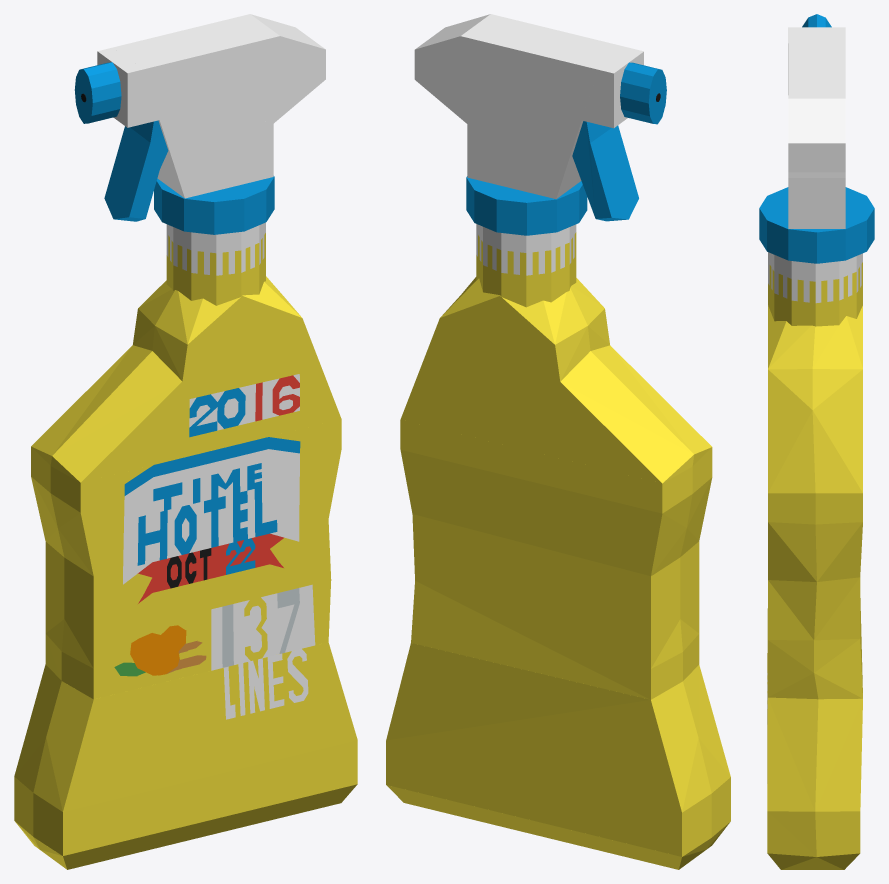
The model's file is sprayBottle.obj.
The picture shows the model from 3 angles, left to right: view 1: azimuth 30°, elevation 25°; view 2: azimuth 150°, elevation 25°; view 3: azimuth 270°, elevation 25°; orthographic projection. The views are drawn at different scales.
Visible parts, largest first — view 1: group907148737, group213891247, group725267050, group51710340, group307408134, group668456900, group1409497348, group1131721816, group1334471471, group1897791292, group326314247, group2076814445; view 2: group907148737, group725267050, group213891247, group51710340, group307408134, group668456900, group1131721816, group1897791292, group1334471471, group1409497348, group2076814445, group326314247; view 3: group213891247, group907148737, group725267050, group307408134, group51710340, group668456900, group1131721816, group1409497348, group1334471471, group326314247, group2076814445.
Part boxes in pixels (<box>): group907148737: <box>14,642,357,855</box>; group213891247: <box>31,276,341,482</box>; group725267050: <box>45,519,331,699</box>; group51710340: <box>31,419,341,576</box>; group307408134: <box>113,14,325,198</box>; group668456900: <box>166,222,265,305</box>; group1409497348: <box>185,119,273,198</box>; group1131721816: <box>154,176,274,234</box>; group1334471471: <box>15,784,357,869</box>; group1897791292: <box>104,120,168,221</box>; group326314247: <box>97,47,161,127</box>; group2076814445: <box>74,62,121,123</box>; group907148737: <box>386,643,730,856</box>; group725267050: <box>411,514,699,699</box>; group213891247: <box>400,277,711,483</box>; group51710340: <box>400,419,712,576</box>; group307408134: <box>414,14,627,198</box>; group668456900: <box>476,224,576,307</box>; group1131721816: <box>466,176,587,235</box>; group1897791292: <box>572,121,638,221</box>; group1334471471: <box>386,785,729,869</box>; group1409497348: <box>467,124,555,198</box>; group2076814445: <box>620,62,666,124</box>; group326314247: <box>582,47,643,128</box>; group213891247: <box>768,306,862,493</box>; group907148737: <box>767,608,862,856</box>; group725267050: <box>768,577,862,699</box>; group307408134: <box>788,34,845,177</box>; group51710340: <box>768,493,862,581</box>; group668456900: <box>768,252,862,326</box>; group1131721816: <box>759,187,874,263</box>; group1409497348: <box>788,178,845,228</box>; group1334471471: <box>767,853,859,869</box>; group326314247: <box>788,27,845,94</box>; group2076814445: <box>802,14,831,27</box>.
Bounding box in the file's own units: 1.18 × 2.85 × 0.4.
